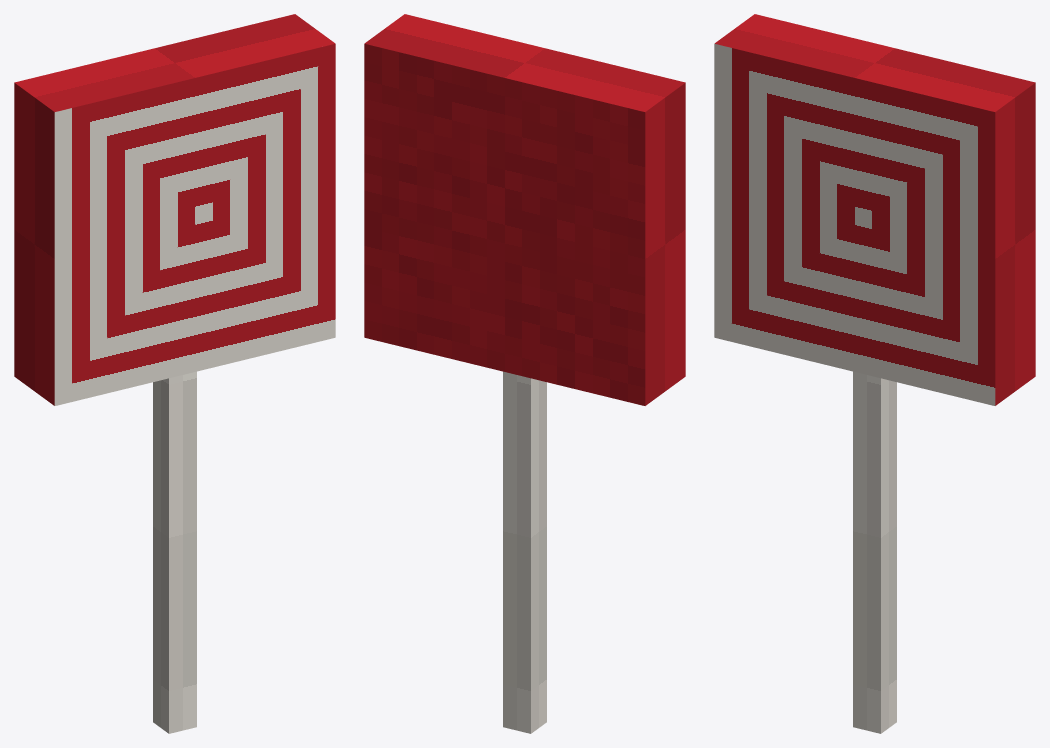
File: item_lollipop.glb
3 renders of one model, left to right at view 1: azimuth 30°, elevation 25°; view 2: azimuth 150°, elevation 25°; view 3: azimuth 330°, elevation 25°, orthographic.
Visible parts, largest first — view 1: pop, stick; view 2: pop, stick; view 3: pop, stick.
Boxes of the visible parts, x1,y1,x2,y2 form: pop: [14, 14, 335, 405]; stick: [153, 371, 196, 733]; pop: [364, 14, 685, 405]; stick: [503, 371, 546, 733]; pop: [714, 14, 1035, 405]; stick: [853, 371, 896, 733].
Size of the model in its own units: 0.12 by 0.27 by 0.03.
Materials: 3 (3 with a texture image).
